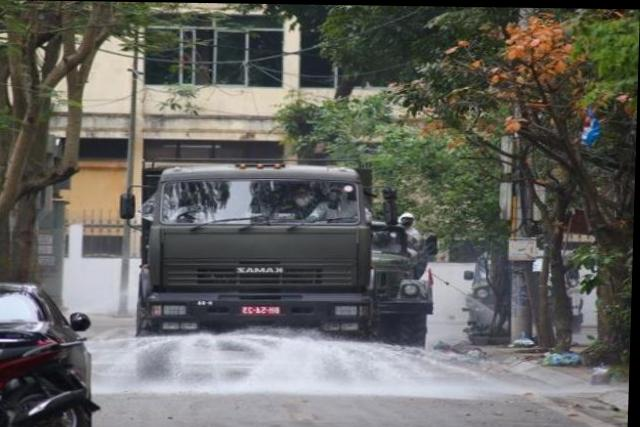License_Plate: (240, 302, 283, 319)
